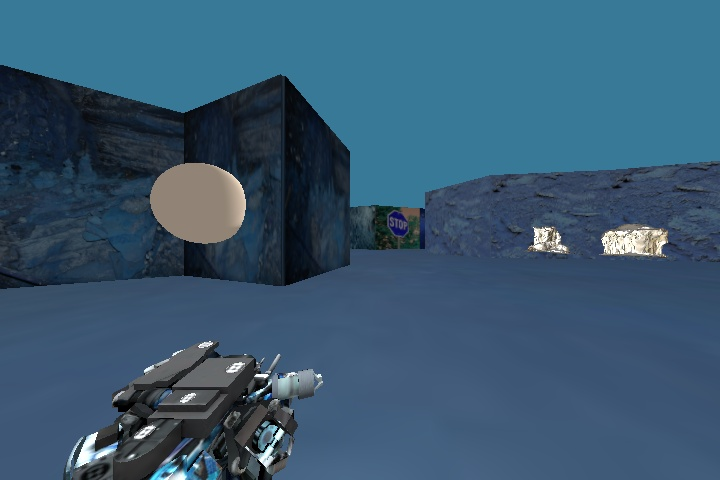formation: (590, 218, 678, 267), (526, 219, 570, 253)
stop_sign: (385, 209, 415, 238)
white_sphere: (137, 155, 251, 249)
